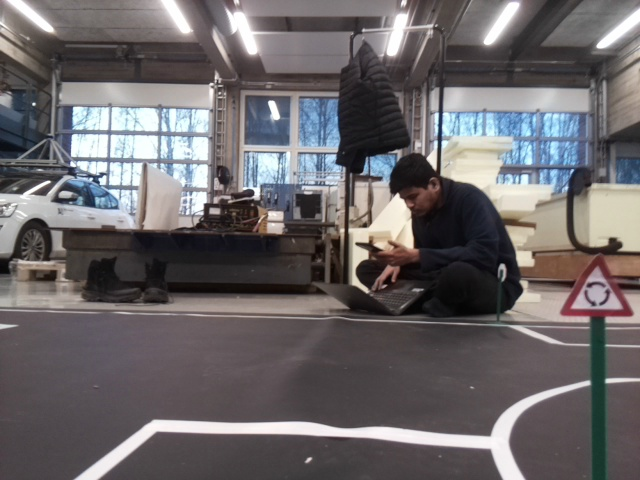Roundabout: (557, 253, 633, 317)
